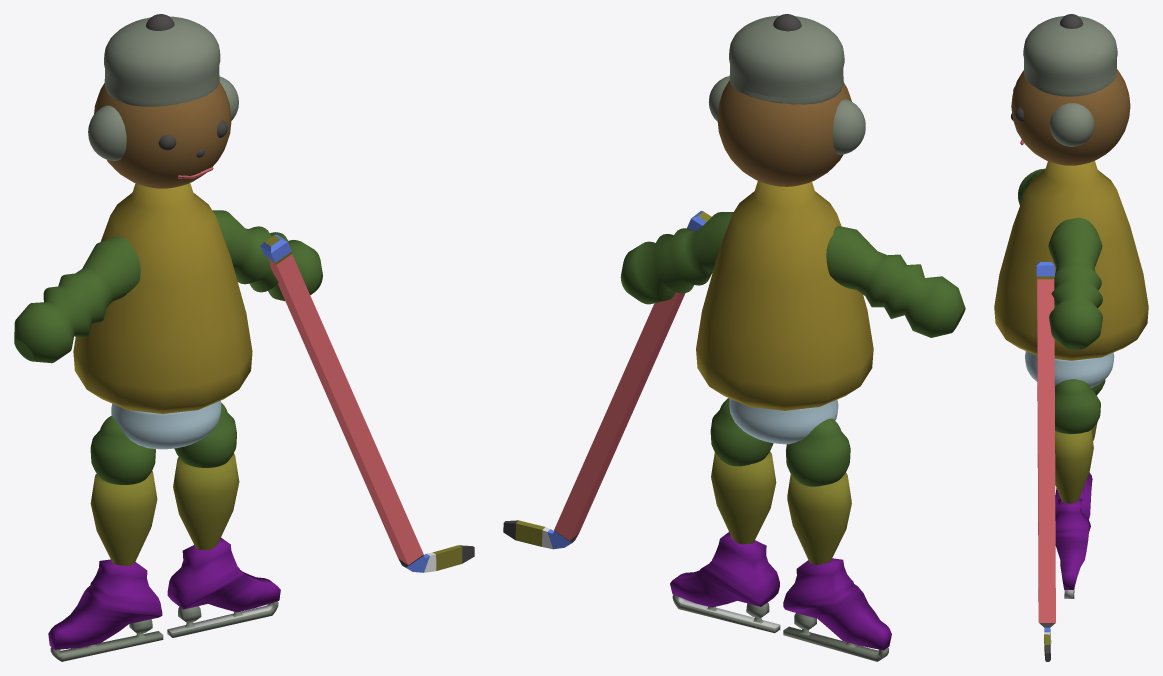
Rendered from Igrac Hokej .fbx.
3 views of the same model, side by side, from view 1: azimuth 30°, elevation 25°; view 2: azimuth 150°, elevation 25°; view 3: azimuth 270°, elevation 25° (orthographic). The views are drawn at different scales.
Parts seen in each view (by area): view 1: Igrac sve sa palicom; view 2: Igrac sve sa palicom; view 3: Igrac sve sa palicom.
Boxes of the visible parts, x1,y1,x2,y2 form: Igrac sve sa palicom: (14,14,474,661); Igrac sve sa palicom: (503,14,965,661); Igrac sve sa palicom: (994,14,1148,661).
Bounding box in the file's own units: 105 × 136 × 35.51.
